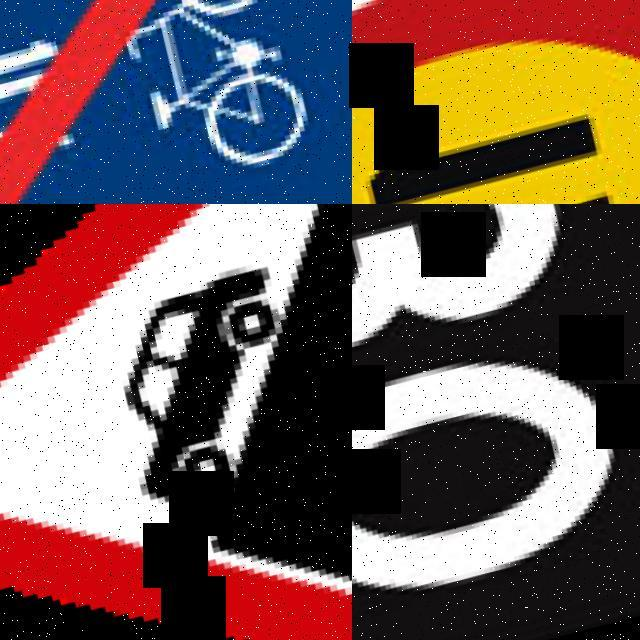100: (352, 204, 640, 640)
112: (0, 0, 352, 204)
No vehicles exceeding 12 tonnes: (352, 0, 640, 204)
Steep ascent: (0, 204, 352, 640)
